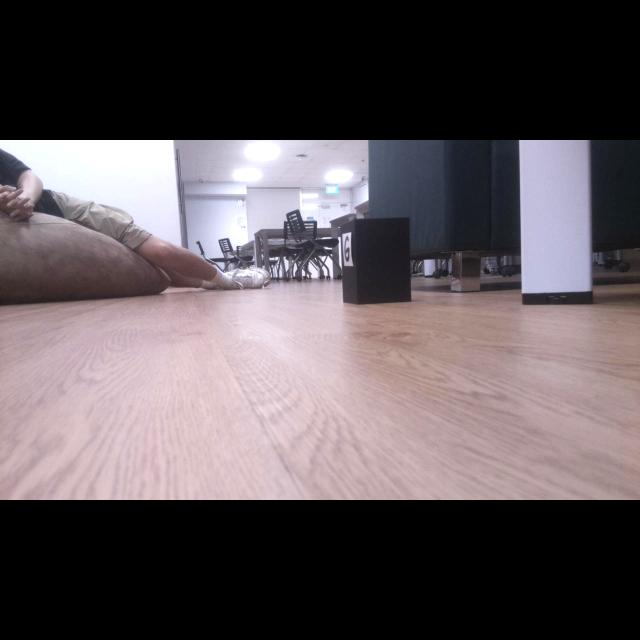G: (344, 236, 350, 262)
